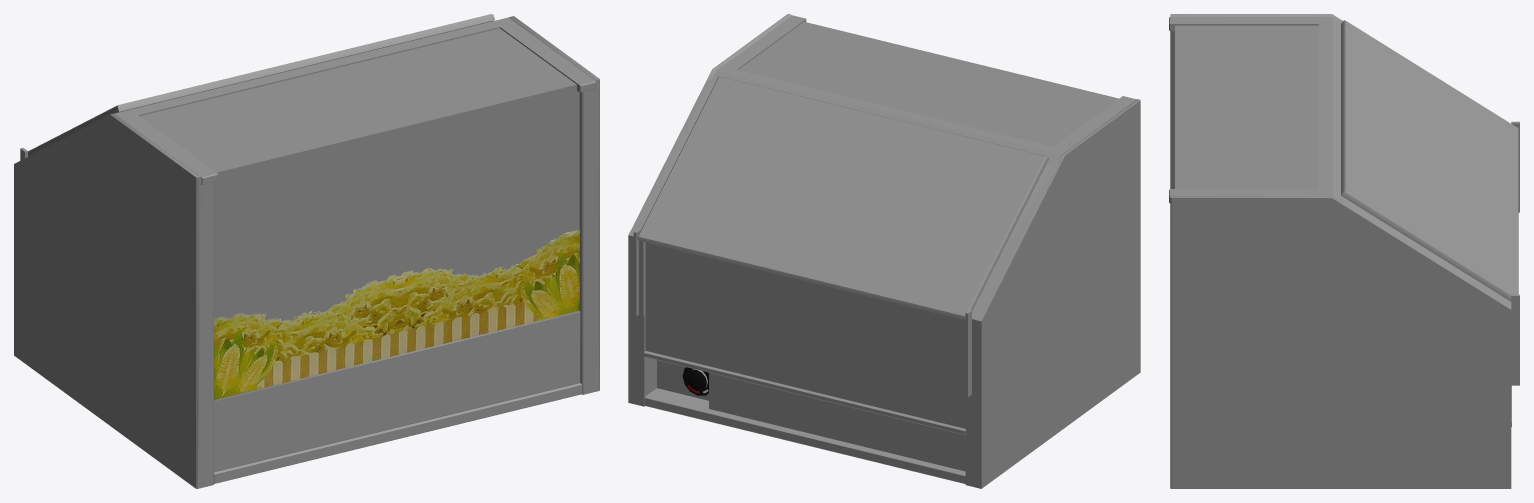
The model's file is LC_3068_Popcorndispenser_LOD2.FBX.
The picture shows the model from 3 angles, left to right: view 1: azimuth 30°, elevation 25°; view 2: azimuth 150°, elevation 25°; view 3: azimuth 270°, elevation 25°; orthographic projection. The views are drawn at different scales.
Visible parts, largest first — view 1: LC_3068_Popcorndispenser_LOD2; view 2: LC_3068_Popcorndispenser_LOD2; view 3: LC_3068_Popcorndispenser_LOD2.
Boxes of the visible parts, x1,y1,x2,y2 form: LC_3068_Popcorndispenser_LOD2: [14, 14, 599, 488]; LC_3068_Popcorndispenser_LOD2: [628, 14, 1140, 488]; LC_3068_Popcorndispenser_LOD2: [1169, 14, 1519, 488].
Size of the model in its own units: 99.9 by 73.67 by 80.45.
2 materials, 1 textured.
